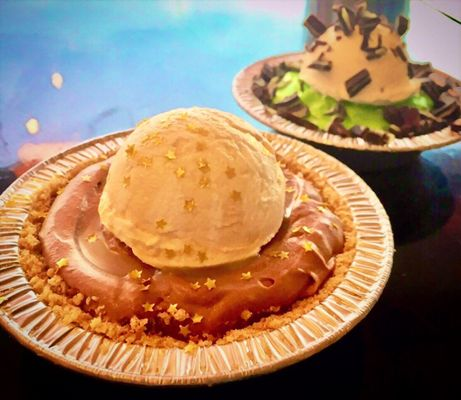sushi: (233, 3, 461, 152)
